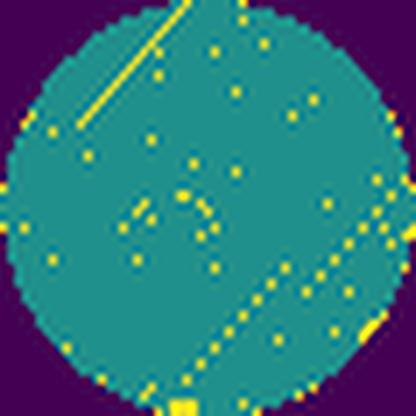Scratch: (69, 0, 199, 136), (178, 256, 302, 392), (299, 187, 398, 299)
